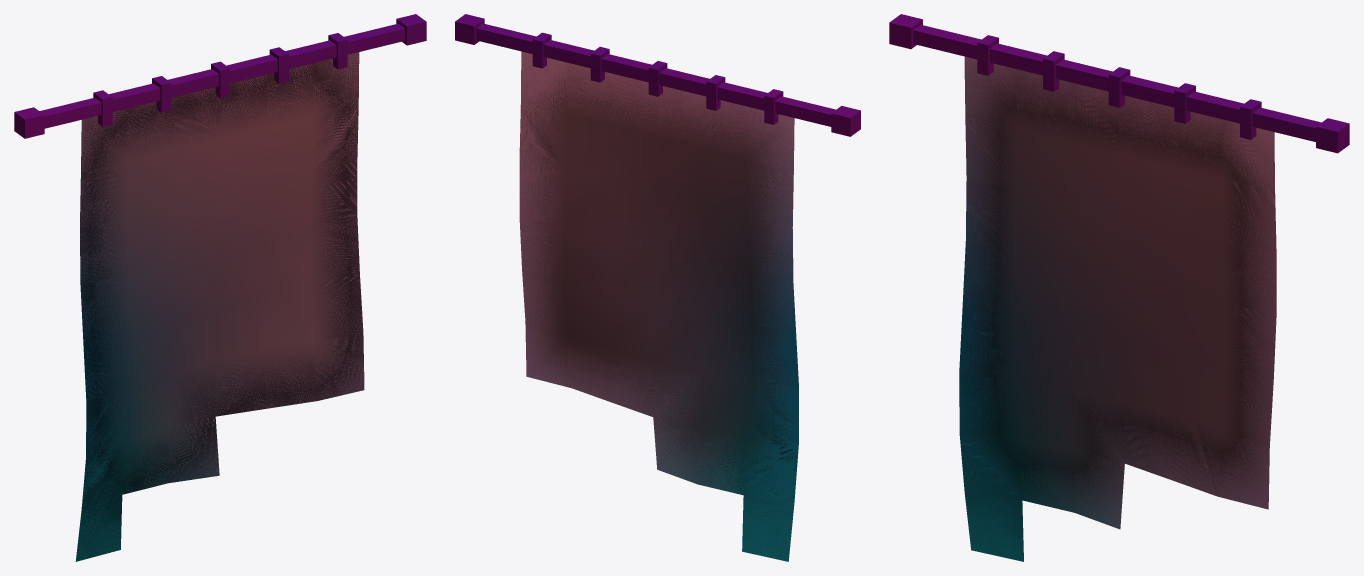
File: banner_torn.glb
The picture shows the model from 3 angles, left to right: view 1: azimuth 30°, elevation 25°; view 2: azimuth 150°, elevation 25°; view 3: azimuth 330°, elevation 25°; orthographic projection. The views are drawn at different scales.
Visible parts, largest first — view 1: rag, rod; view 2: rag, rod; view 3: rag, rod.
Boxes of the visible parts, x1,y1,x2,y2 form: rag: (75, 52, 364, 561); rod: (14, 14, 426, 138); rag: (519, 51, 798, 561); rod: (455, 14, 860, 136); rag: (959, 56, 1276, 561); rod: (889, 14, 1349, 153).
Size of the model in its own units: 1.23 by 1.36 by 0.0656.
